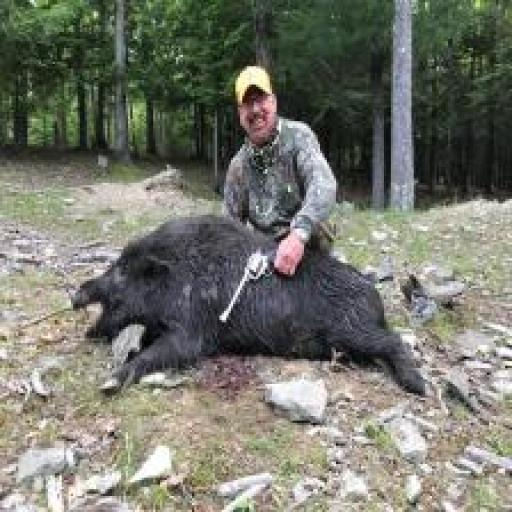Pig: (71, 212, 424, 396)
